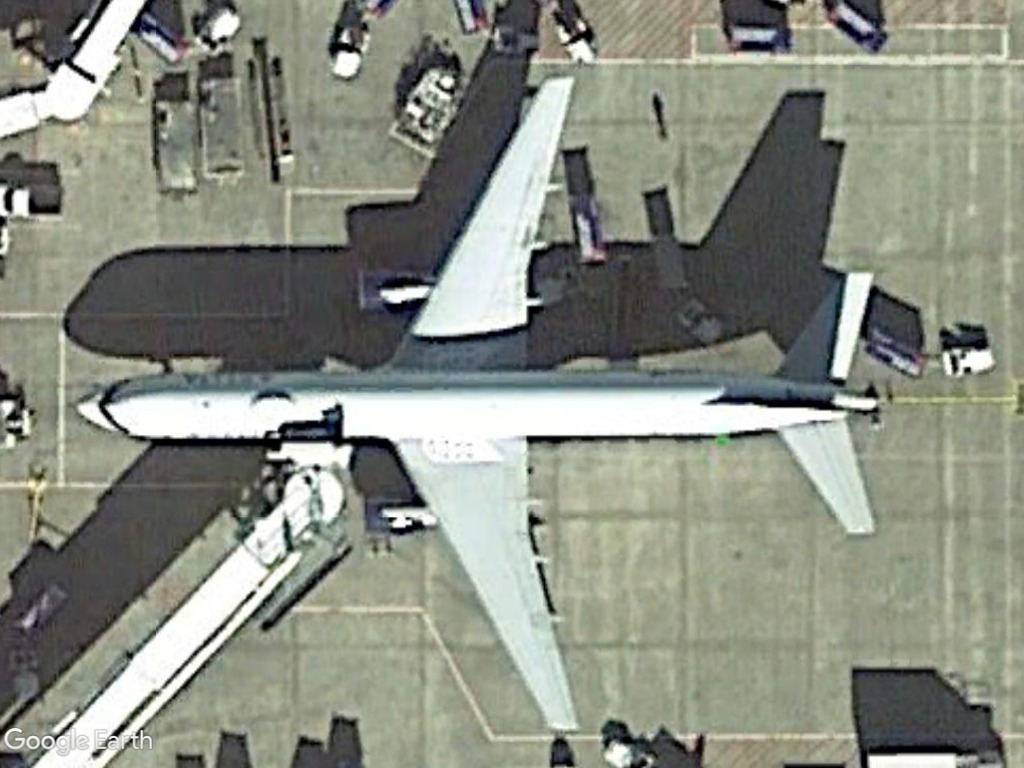airliner: (66, 67, 889, 744)
